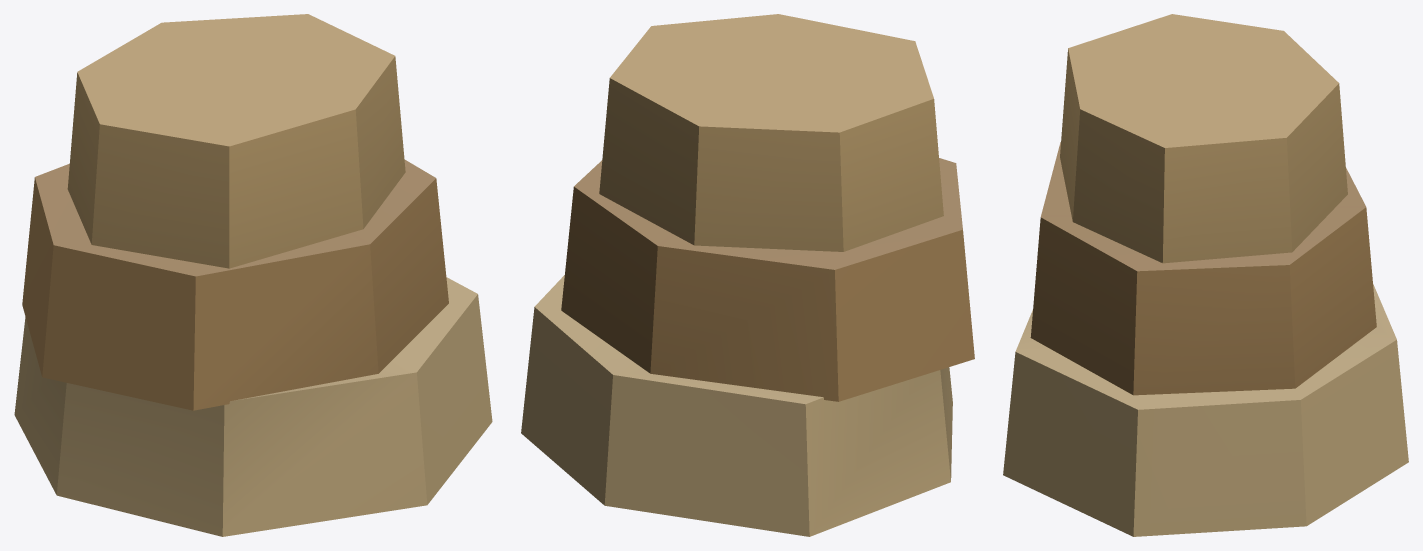
The model's file is ore_sandstone_low.glb.
3 renders of one model, left to right at view 1: azimuth 30°, elevation 25°; view 2: azimuth 150°, elevation 25°; view 3: azimuth 270°, elevation 25°, orthographic. The views are drawn at different scales.
Bounding box in the file's own units: 0.26 × 0.22 × 0.23.
